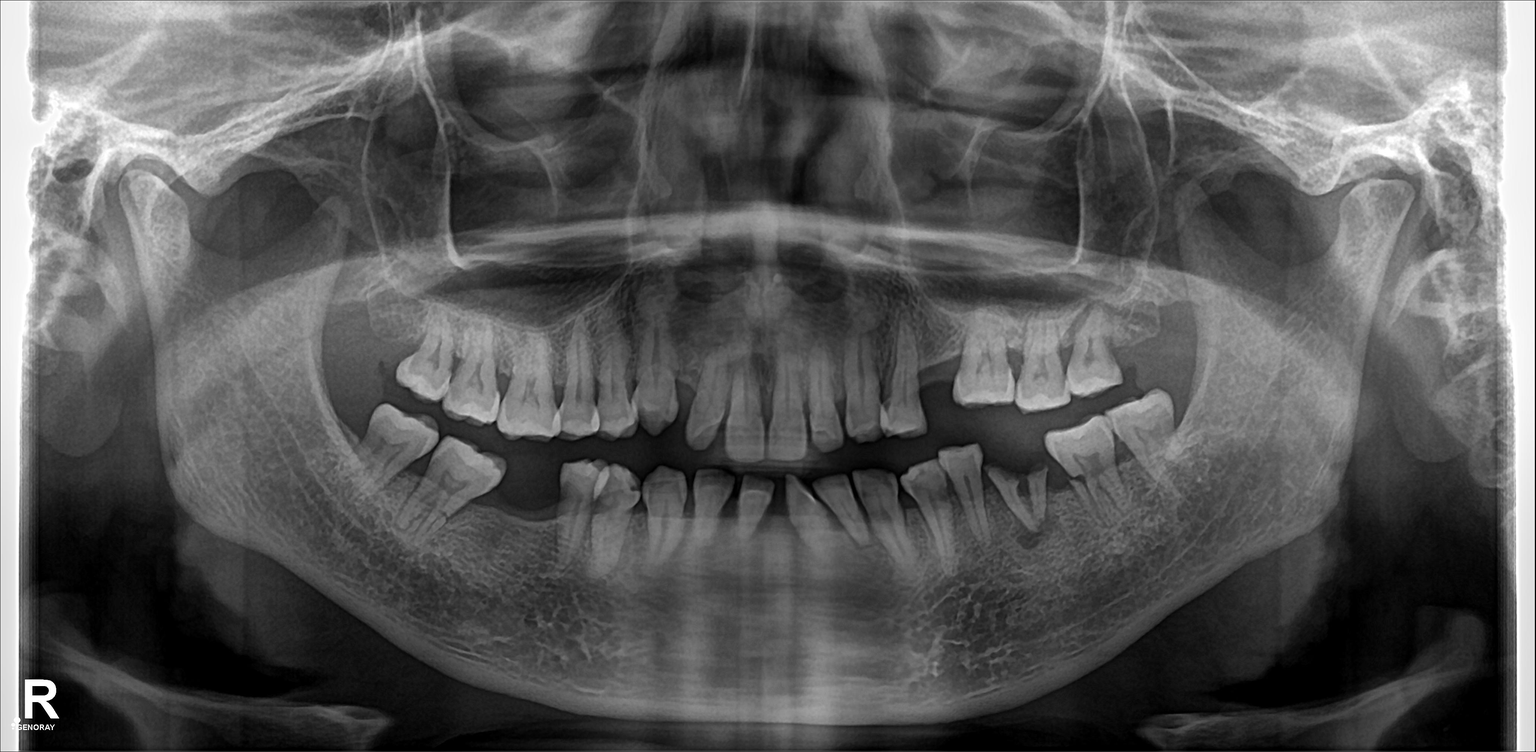Missing Tooth: (1117, 290, 1177, 374), (331, 283, 371, 392), (508, 463, 557, 551), (918, 331, 965, 414), (324, 410, 374, 481), (380, 289, 416, 381), (670, 357, 693, 438)
Retained Root: (987, 439, 1052, 532)
